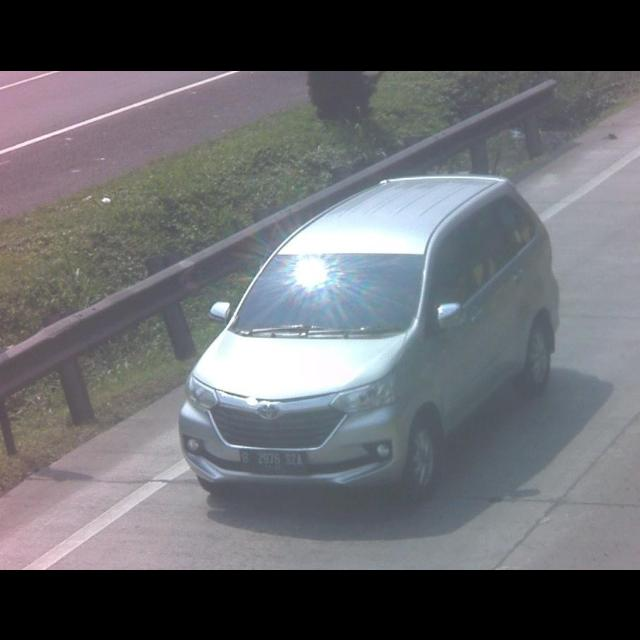plate: (236, 446, 308, 474)
